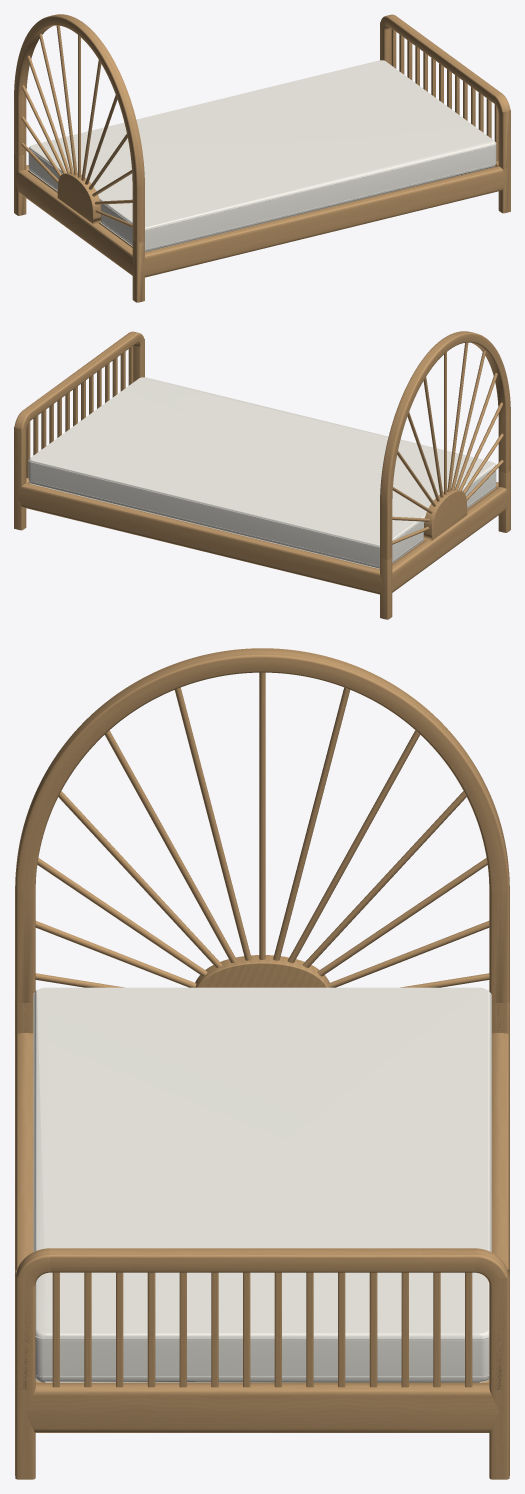
File: tootoo1_youth.glb
The picture shows the model from 3 angles, top to bottom: view 1: azimuth 30°, elevation 25°; view 2: azimuth 150°, elevation 25°; view 3: azimuth 270°, elevation 25°; orthographic projection. The views are drawn at different scales.
Parts seen in each view (by area): view 1: Fitted ivory mattress covering bed deck 2000 x 1110 x 130 mm, Long oak base rail, Refined continuous vaulted head H1250 W1200, End base rail, Foot frame H600 W1200, Rounded solid oak leg (×4), Low flattened sun hub with softened edge, Mattress piping (×2), Round sunburst ray 08, Round sunburst ray 09, Round sunburst ray 10, Round sunburst ray 06 (+3 smaller); view 2: Fitted ivory mattress covering bed deck 2000 x 1110 x 130 mm, Long oak base rail, Refined continuous vaulted head H1250 W1200, End base rail, Foot frame H600 W1200, Rounded solid oak leg (×4), Low flattened sun hub with softened edge, Mattress piping (×2), Round sunburst ray 06, Round sunburst ray 05, Round sunburst ray 04, Round sunburst ray 08 (+3 smaller); view 3: Fitted ivory mattress covering bed deck 2000 x 1110 x 130 mm, End base rail, Refined continuous vaulted head H1250 W1200, Foot frame H600 W1200, Long oak base rail (×2), Rounded solid oak leg (×2), Low flattened sun hub with softened edge, Round sunburst ray 06, Round sunburst ray 08, Round sunburst ray 07, Round sunburst ray 05, Round sunburst ray 09 (+21 smaller).
Boxes of the visible parts, x1,y1,x2,y2 form: Fitted ivory mattress covering bed deck 2000 x 1110 x 130 mm: [28, 60, 496, 251]; Long oak base rail: [141, 166, 507, 277]; Refined continuous vaulted head H1250 W1200: [14, 14, 144, 256]; End base rail: [16, 170, 134, 275]; Foot frame H600 W1200: [380, 14, 510, 168]; Rounded solid oak leg (×4): [14, 22, 510, 302]; Low flattened sun hub with softened edge: [57, 172, 101, 224]; Mattress piping (×2): [28, 142, 496, 249]; Round sunburst ray 08: [56, 25, 77, 175]; Round sunburst ray 09: [39, 33, 73, 173]; Round sunburst ray 10: [27, 55, 69, 172]; Round sunburst ray 06: [81, 60, 101, 180]; Fitted ivory mattress covering bed deck 2000 x 1110 x 130 mm: [28, 377, 496, 568]; Long oak base rail: [17, 483, 383, 594]; Refined continuous vaulted head H1250 W1200: [380, 331, 510, 574]; End base rail: [390, 487, 508, 592]; Foot frame H600 W1200: [14, 331, 144, 484]; Rounded solid oak leg (×4): [14, 339, 510, 619]; Low flattened sun hub with softened edge: [423, 489, 467, 541]; Mattress piping (×2): [28, 459, 496, 566]; Round sunburst ray 06: [447, 342, 468, 492]; Round sunburst ray 05: [451, 350, 485, 490]; Round sunburst ray 04: [455, 372, 497, 489]; Round sunburst ray 08: [423, 377, 443, 497]; Fitted ivory mattress covering bed deck 2000 x 1110 x 130 mm: [34, 987, 490, 1382]; End base rail: [25, 1383, 499, 1432]; Refined continuous vaulted head H1250 W1200: [15, 648, 509, 1032]; Foot frame H600 W1200: [15, 1248, 509, 1389]; Long oak base rail (×2): [15, 1033, 509, 1272]; Rounded solid oak leg (×2): [15, 1269, 509, 1479]; Low flattened sun hub with softened edge: [195, 955, 329, 987]; Round sunburst ray 06: [174, 687, 251, 960]; Round sunburst ray 08: [273, 687, 350, 960]; Round sunburst ray 07: [259, 672, 265, 959]; Round sunburst ray 05: [105, 730, 237, 962]; Round sunburst ray 09: [287, 730, 419, 962].
Size of the model in its own units: 2.1 by 1.25 by 1.2.
Materials: 2 (1 with a texture image).
